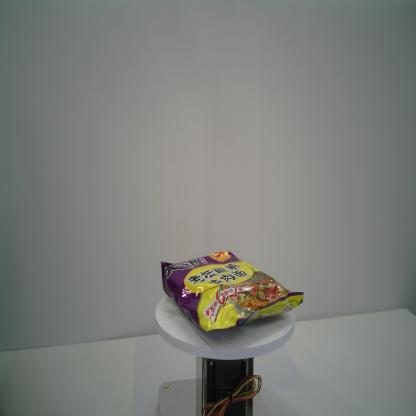Instant Noodles: (159, 249, 303, 330)
